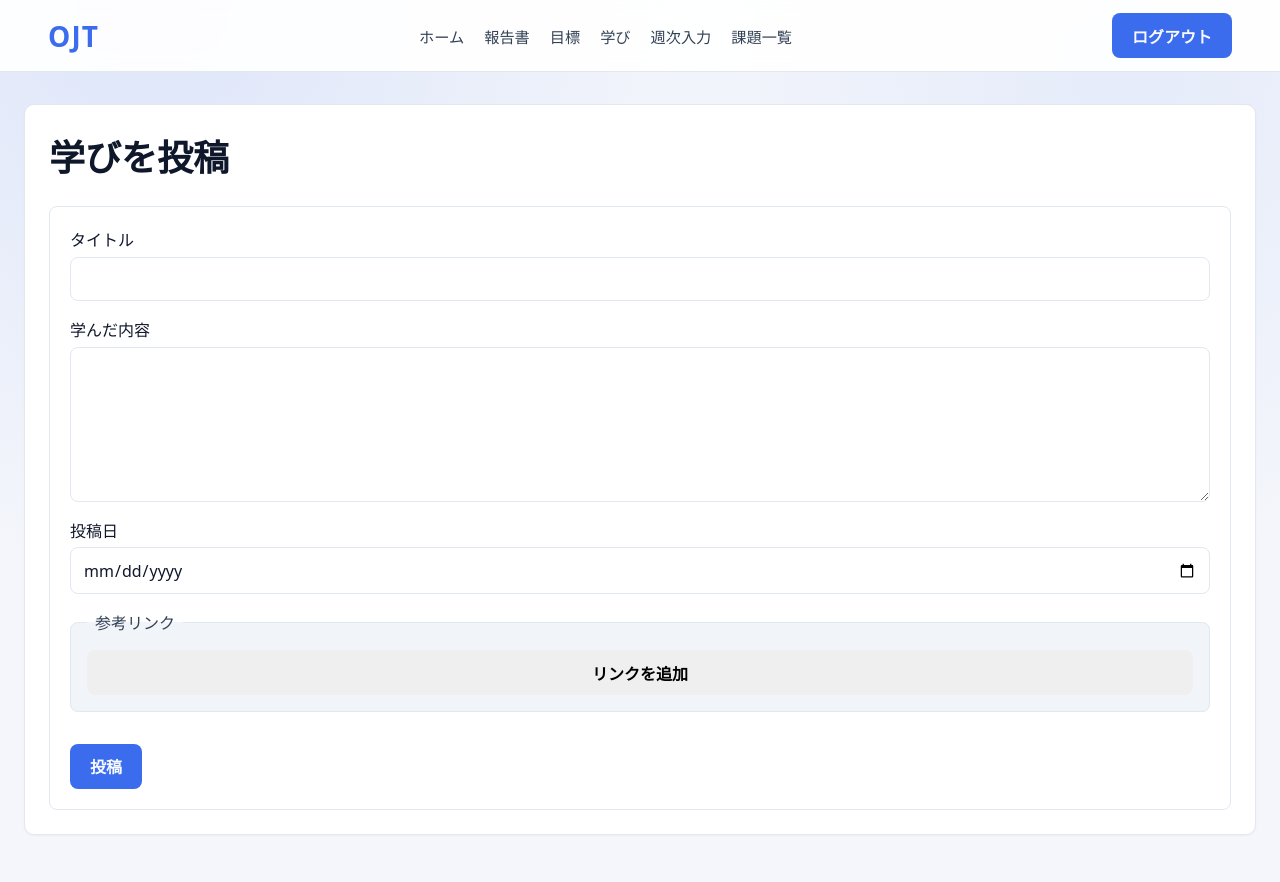
Test: 学び UI › U-L26 不正 URL の入力拒否 › 不正なURLをリンクに入れて投稿するとエラーが表示され投稿されない
In the field labelled "タイトル": (640, 279) [70, 257, 1210, 301], type "タイトル"
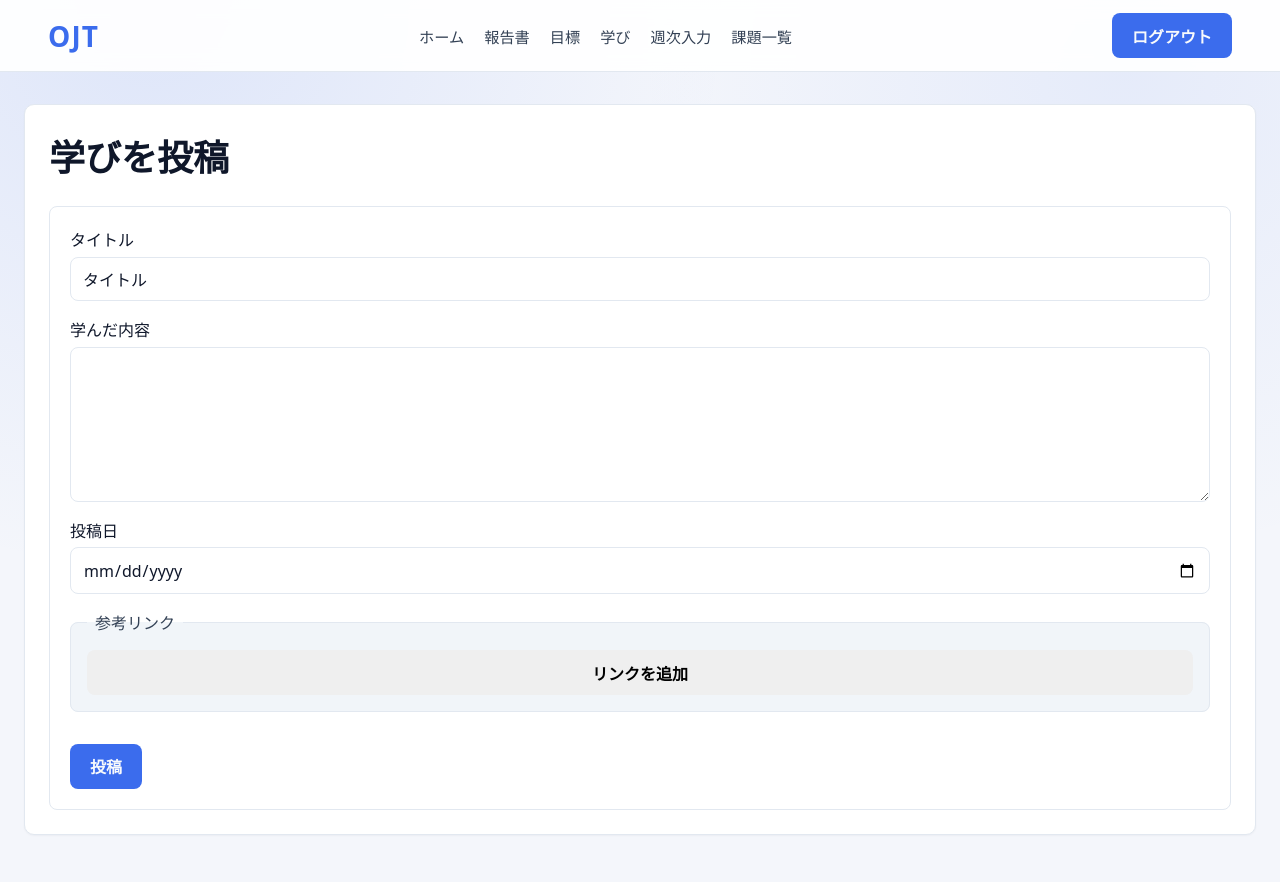
In the text box labelled "学んだ内容": (640, 424) [70, 347, 1210, 502], type "本文"
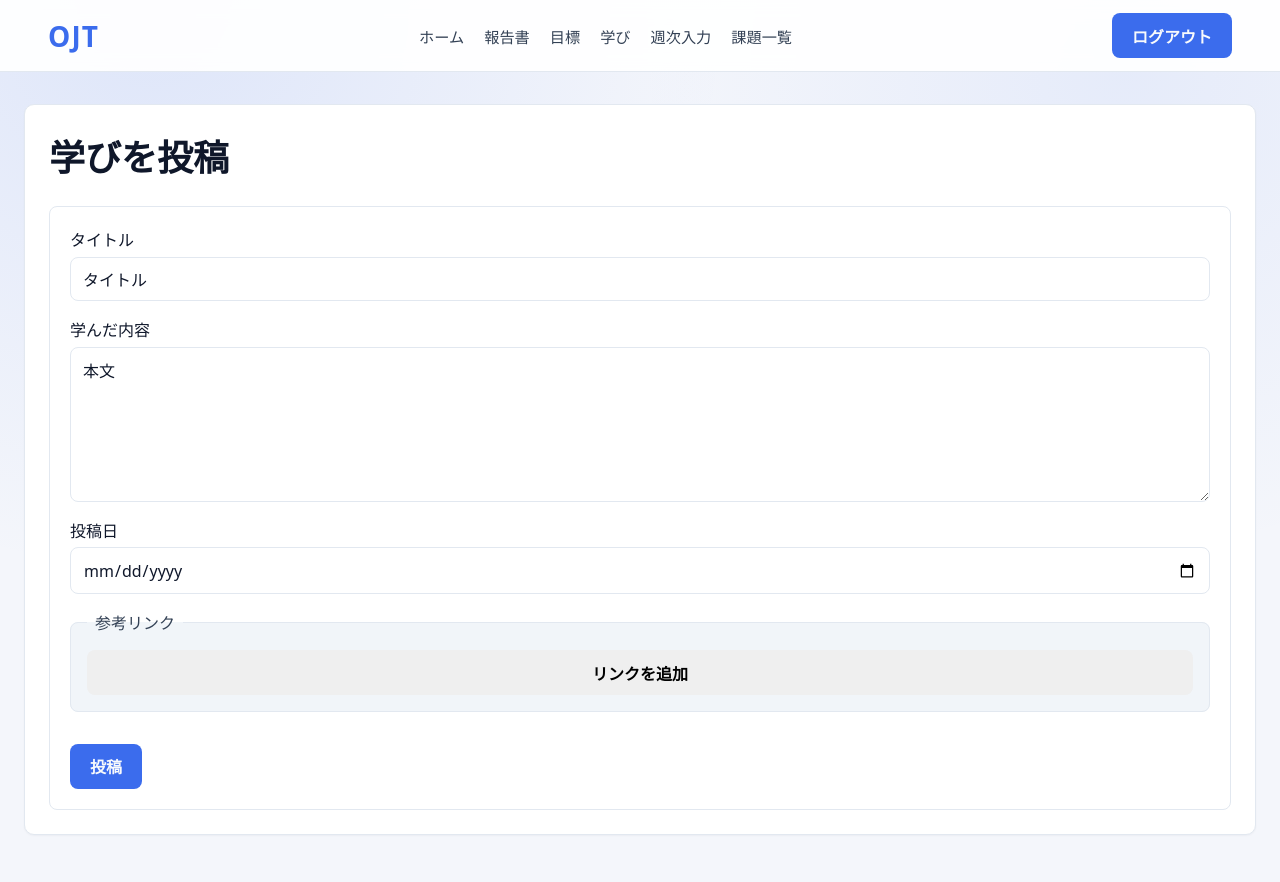
Click the button "リンクを追加": (640, 672) [87, 650, 1193, 695]
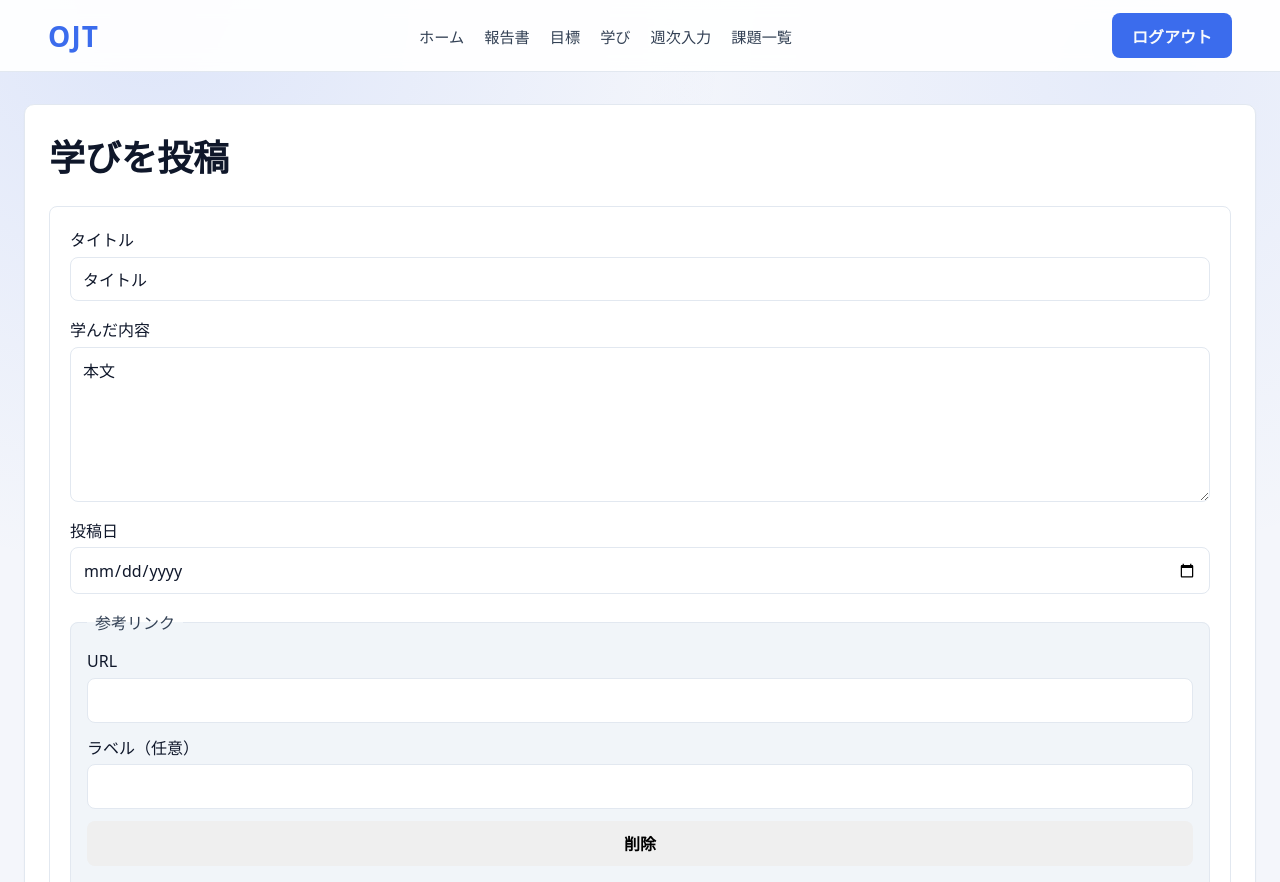
In the field labelled "URL": (640, 700) [87, 678, 1193, 722], type "not-a-valid-url"
(page scrolled)
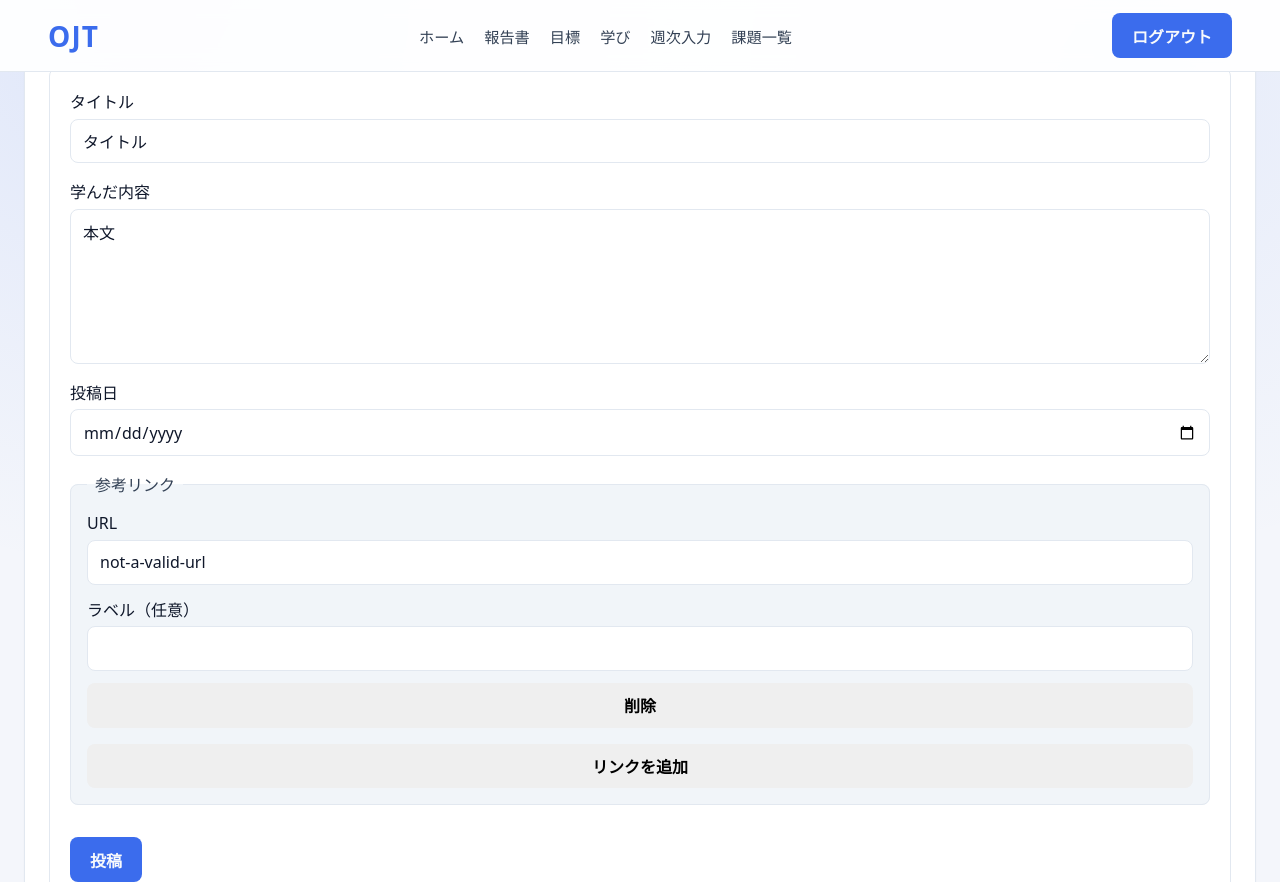
Submit the form named "学び投稿"
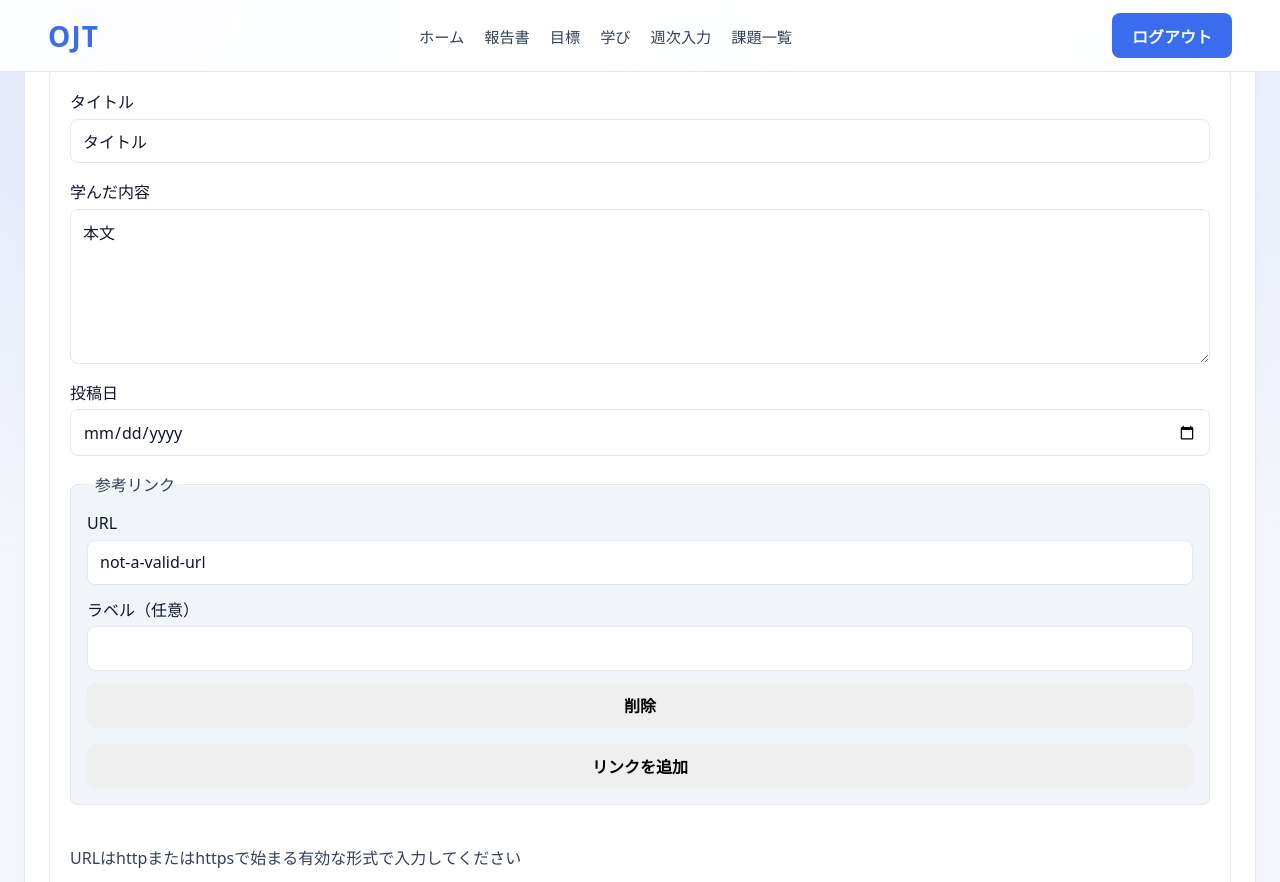
Expected: the message reads "URLはhttpまたはhttpsで始まる有効な形式で入力してください", [70, 847, 521, 869]
